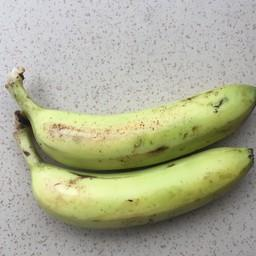Good_banana: (5, 130, 256, 233), (5, 70, 256, 158)
